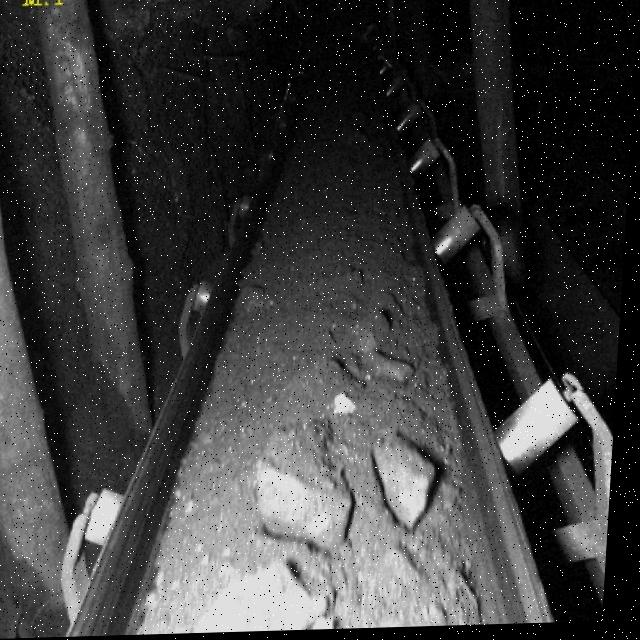large_sized_coal: (263, 435, 362, 551), (200, 560, 339, 635), (374, 426, 444, 533), (351, 318, 420, 383)
